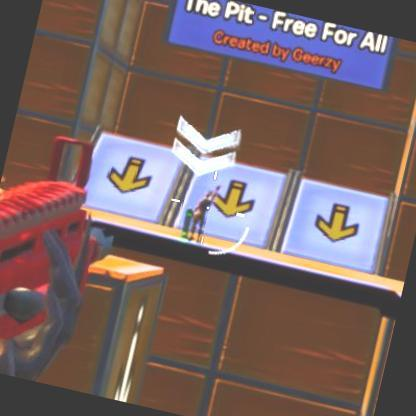person: (192, 190, 215, 240)
